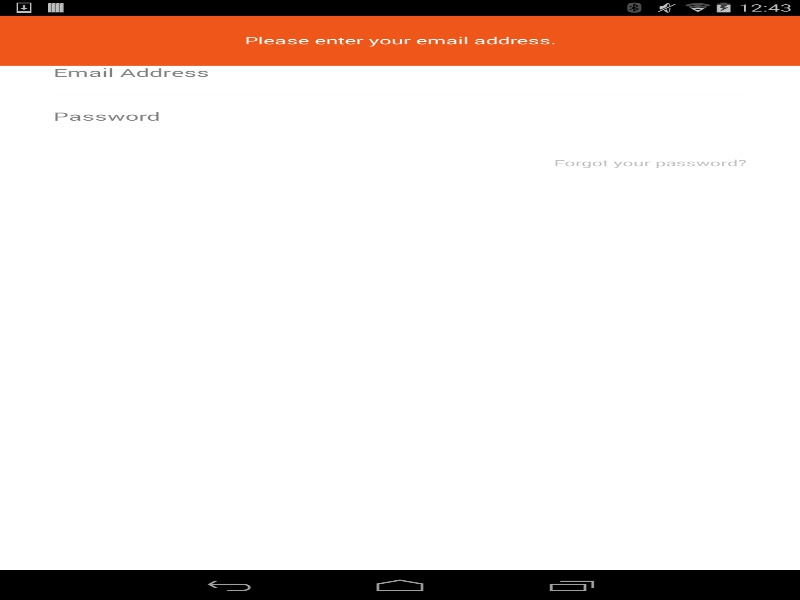Input: (53, 50, 746, 94), (53, 94, 712, 138)
